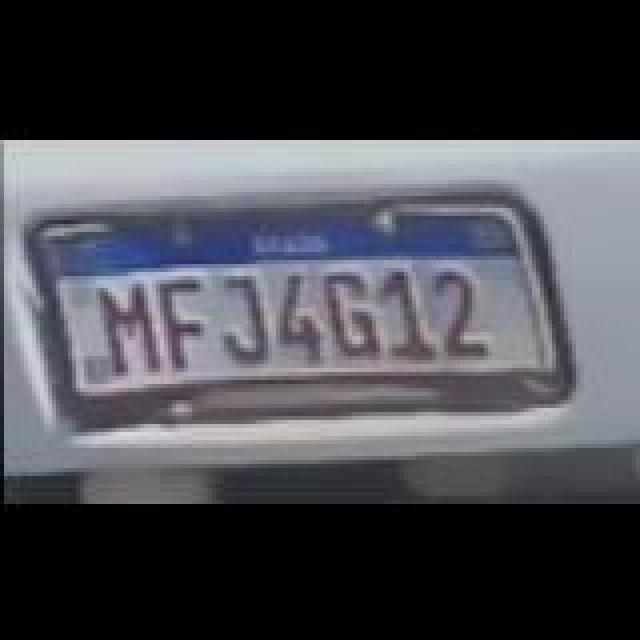1: (380, 266, 440, 358)
2: (430, 266, 494, 358)
4: (274, 268, 330, 364)
F: (158, 272, 214, 368)
G: (322, 266, 386, 358)
J: (214, 270, 270, 362)
M: (98, 280, 162, 376)
